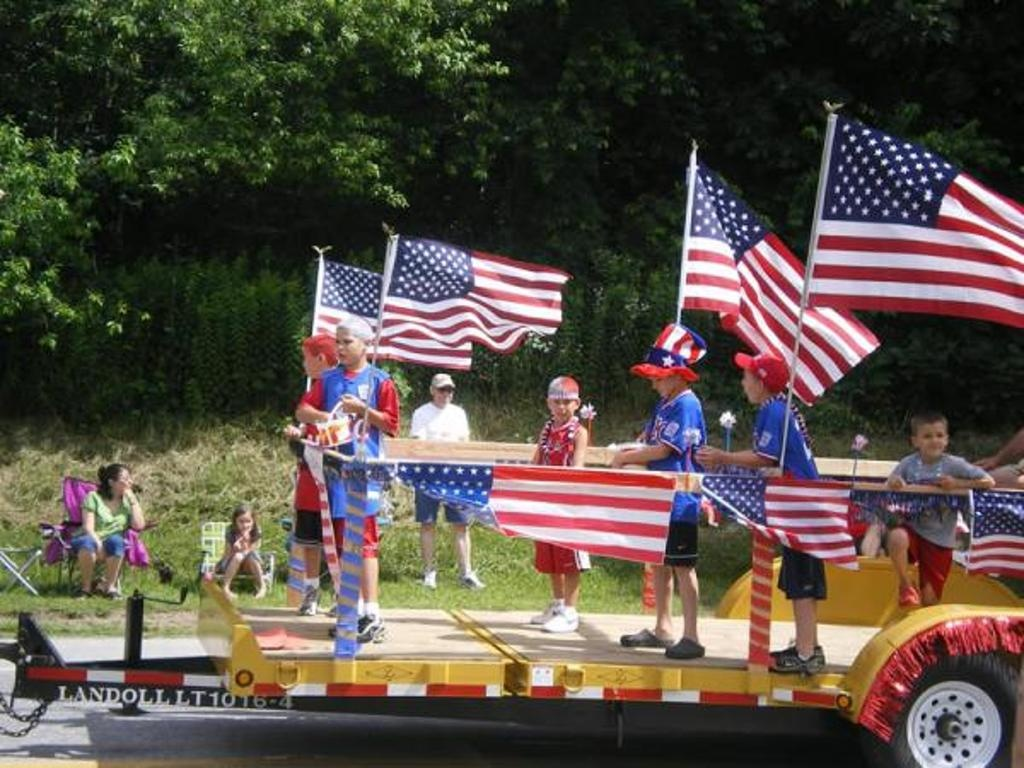human_face: (334, 327, 360, 367), (915, 424, 947, 456), (740, 366, 760, 402), (298, 346, 320, 378), (548, 394, 574, 420), (650, 372, 672, 396), (114, 466, 132, 494), (432, 382, 452, 407), (238, 514, 254, 534)
